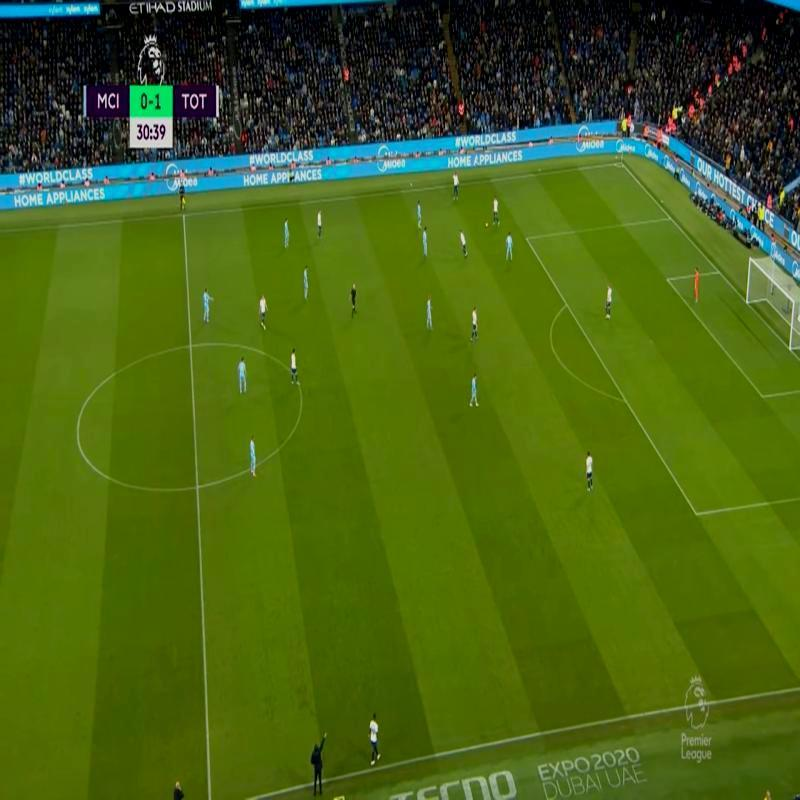1: (611, 156, 626, 172)
10: (559, 297, 574, 312)
11: (620, 394, 635, 411)
12: (754, 389, 770, 405), (690, 508, 704, 524)
13: (180, 209, 188, 222)
14: (182, 339, 198, 355)
15: (189, 478, 206, 496)
2: (662, 207, 678, 228)
3: (714, 266, 724, 278)
7: (662, 270, 673, 288)
9: (520, 232, 534, 245)
c: (292, 386, 310, 402), (70, 424, 86, 440)
